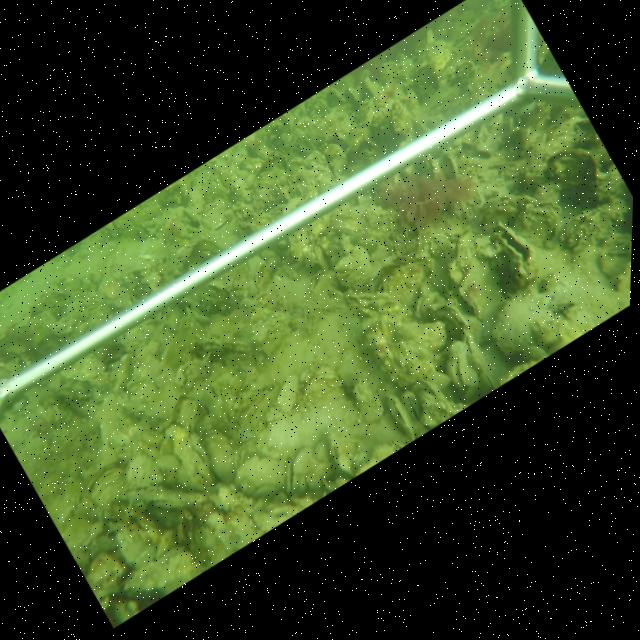Oyster-Closed: (424, 286, 501, 388), (113, 339, 183, 422), (445, 225, 493, 320), (173, 426, 217, 491), (194, 330, 259, 364), (326, 434, 363, 476), (386, 395, 415, 441), (235, 198, 277, 221)
Oyster-Indeterminate: (340, 287, 448, 390), (274, 373, 300, 416)
Oyster-Open: (493, 219, 543, 287), (446, 339, 477, 392), (284, 444, 315, 496), (402, 391, 422, 422)
